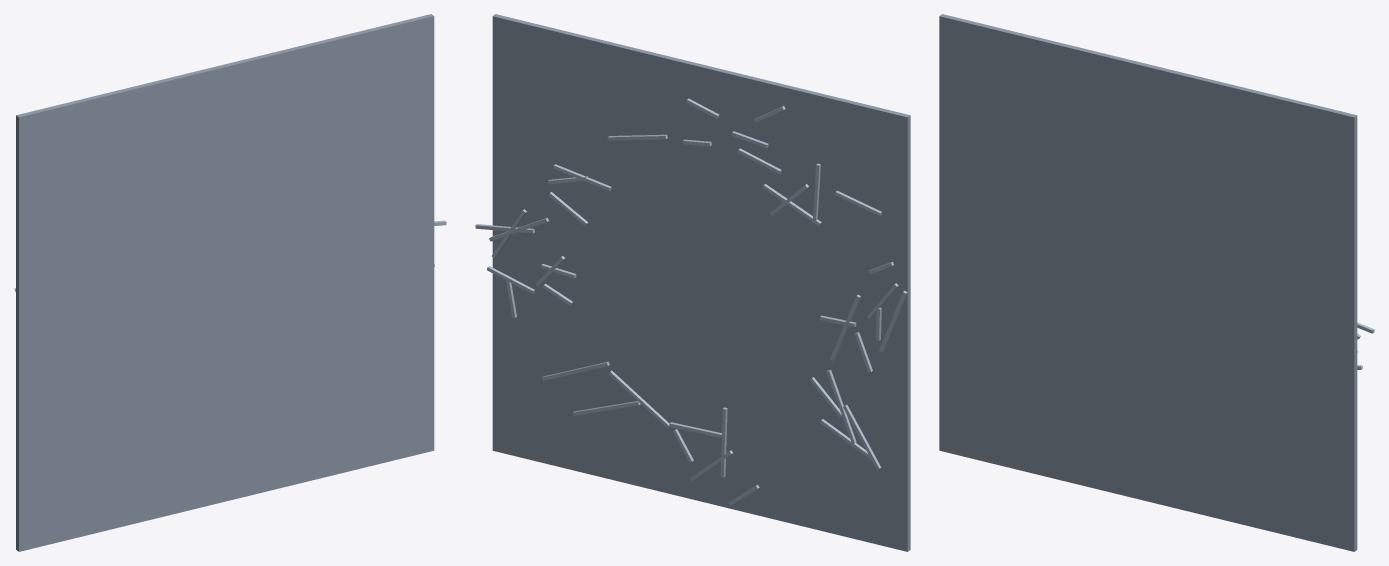
The model's file is shutter_frost.glb.
3 renders of one model, left to right at view 1: azimuth 30°, elevation 25°; view 2: azimuth 150°, elevation 25°; view 3: azimuth 330°, elevation 25°, orthographic.
Parts seen in each view (by area): view 1: shutter_frost; view 2: shutter_frost; view 3: shutter_frost.
Boxes of the visible parts, left/top/right/bottom form: shutter_frost: left=14, top=14, right=446, bottom=551; shutter_frost: left=475, top=14, right=910, bottom=551; shutter_frost: left=939, top=14, right=1374, bottom=551.
Size of the model in its own units: 0.8297 by 0.8 by 0.016.
